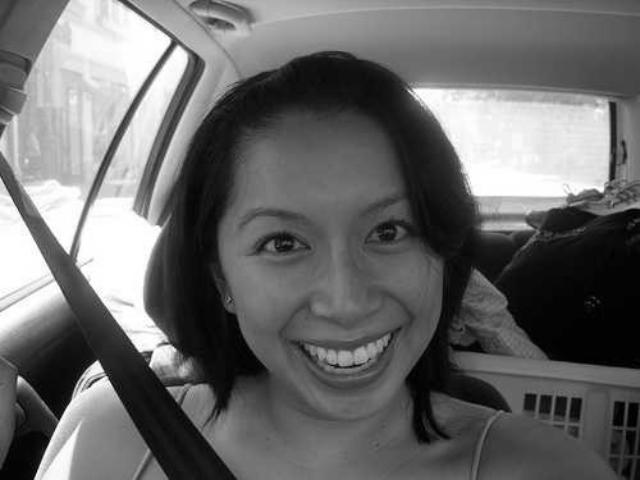SafeDriving: (240, 216, 322, 268), (351, 202, 426, 258)
Seatbelt: (0, 60, 244, 478)
